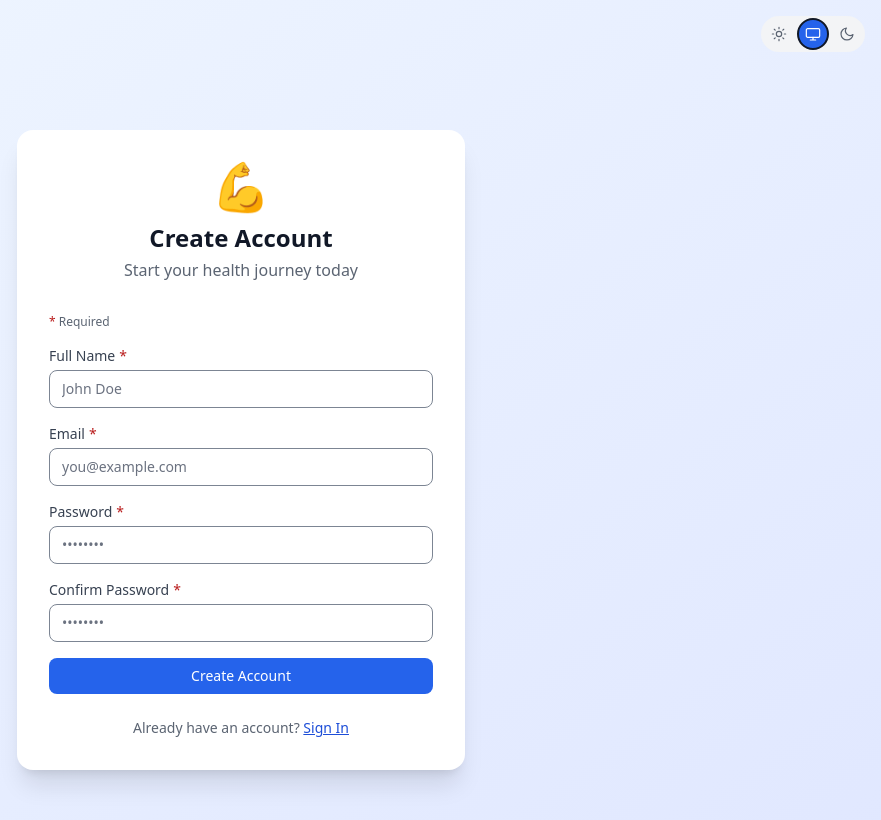
Test: RegisterPage › GivenAConfirmationThatDiffers_WhenTheFormIsSubmitted_ThenItIsRefusedWithoutCallingTheApi
In the field labelled "Full Name": (241, 389) [49,370,433,408], type "Dana Walker"
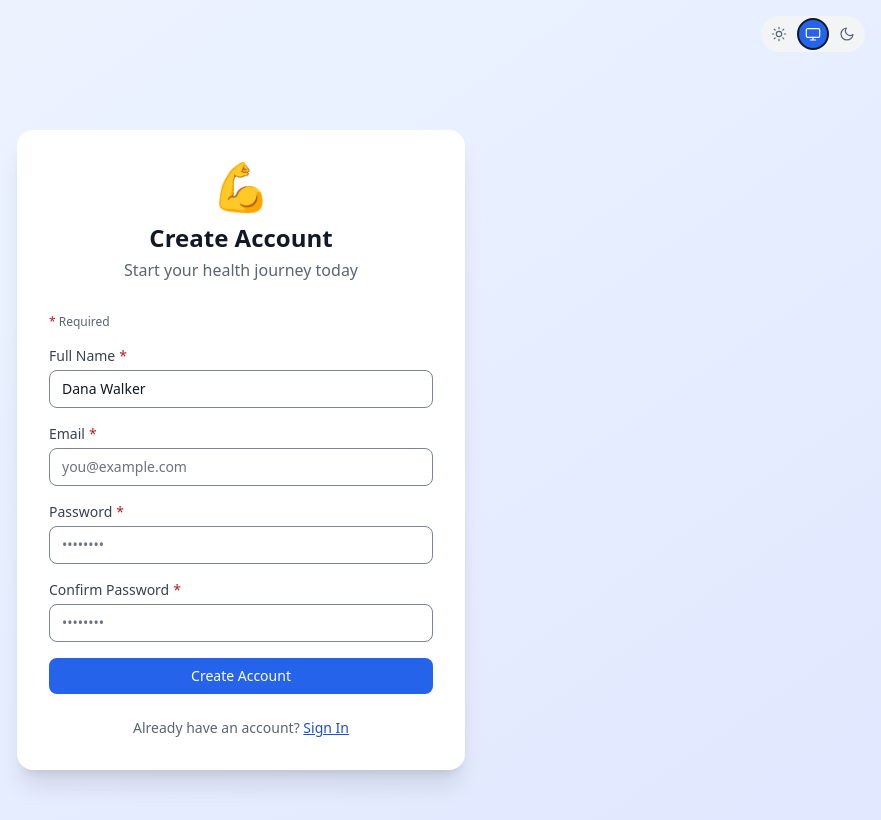
In the field labelled "Email": (241, 467) [49,448,433,486], type "dana@example.com"
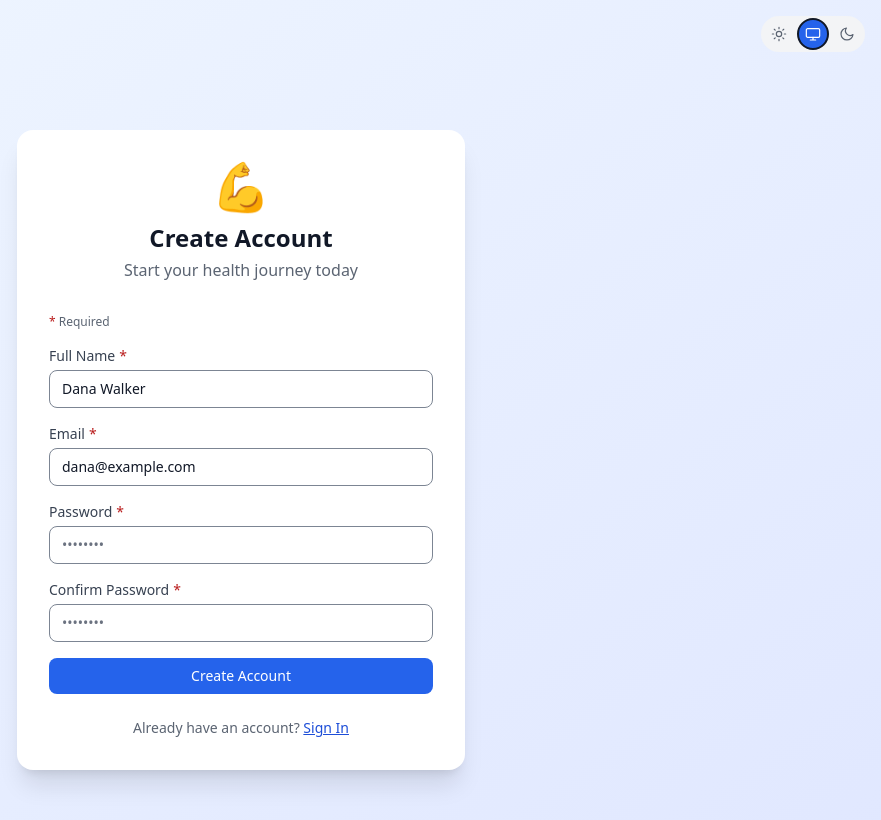
In the password field labelled "Password": (241, 545) [49,526,433,564], type "eight-ch"
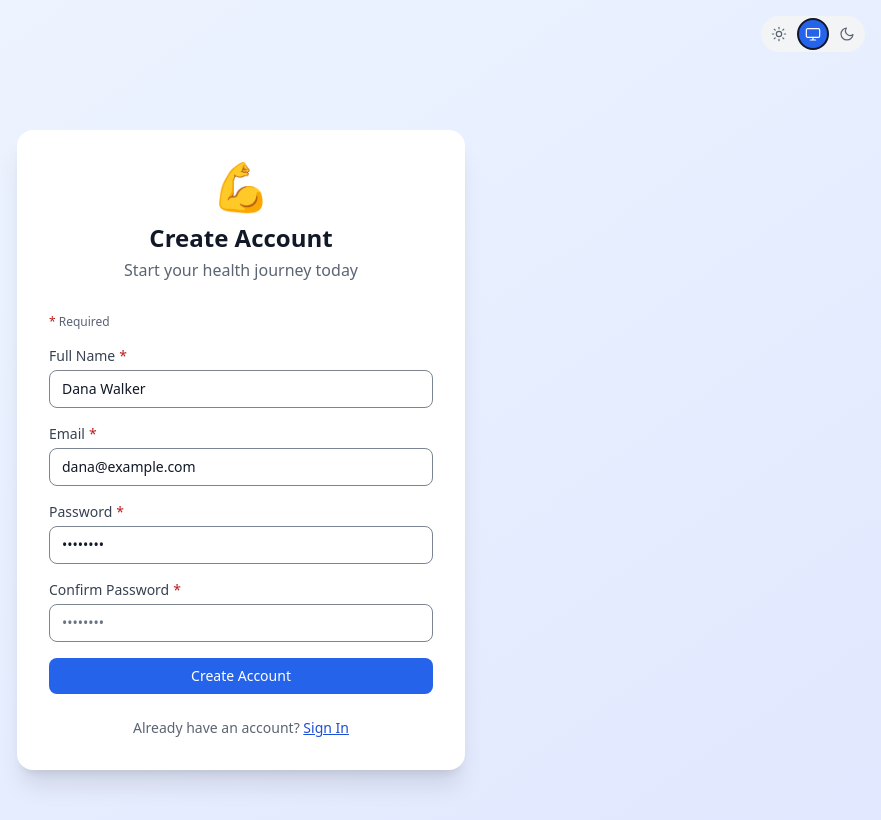
In the password field labelled "Confirm Password": (241, 623) [49,604,433,642], type "eight-cH"
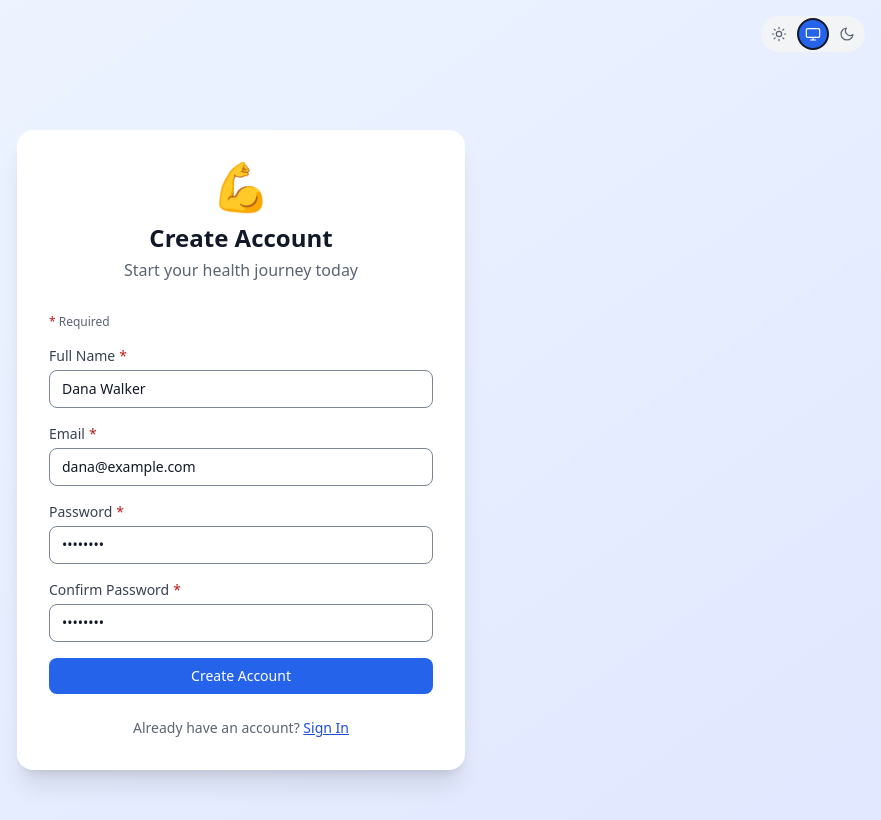
Submit the form from the button "Create Account", box [49,658,433,694]
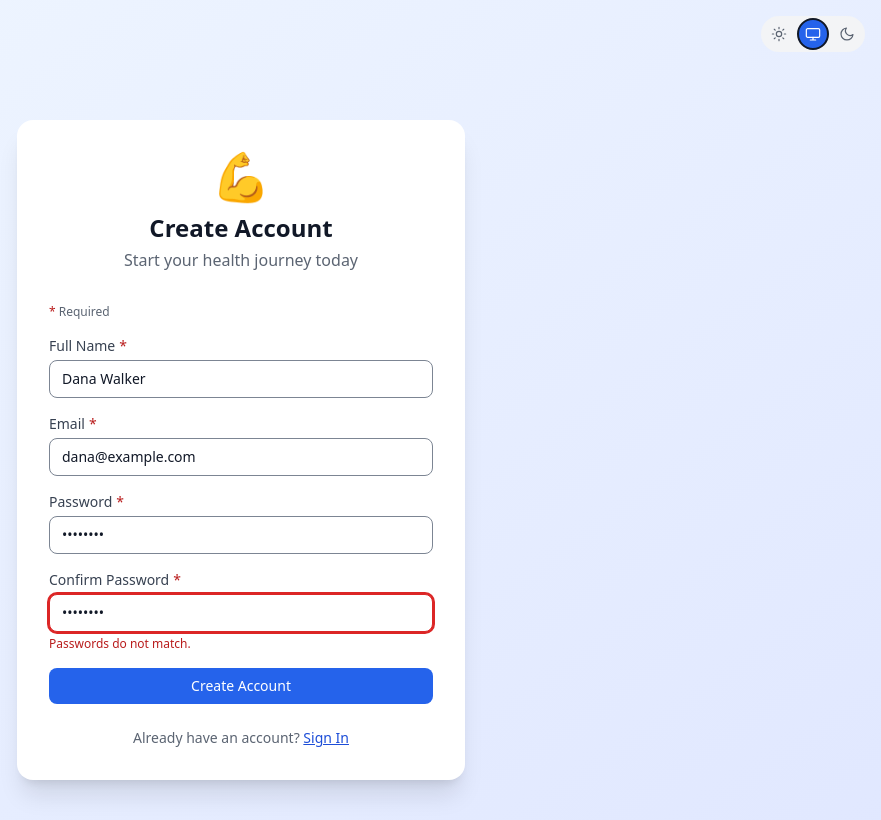
expect the text "Passwords do not match." is shown: met, box [49,635,191,652]
